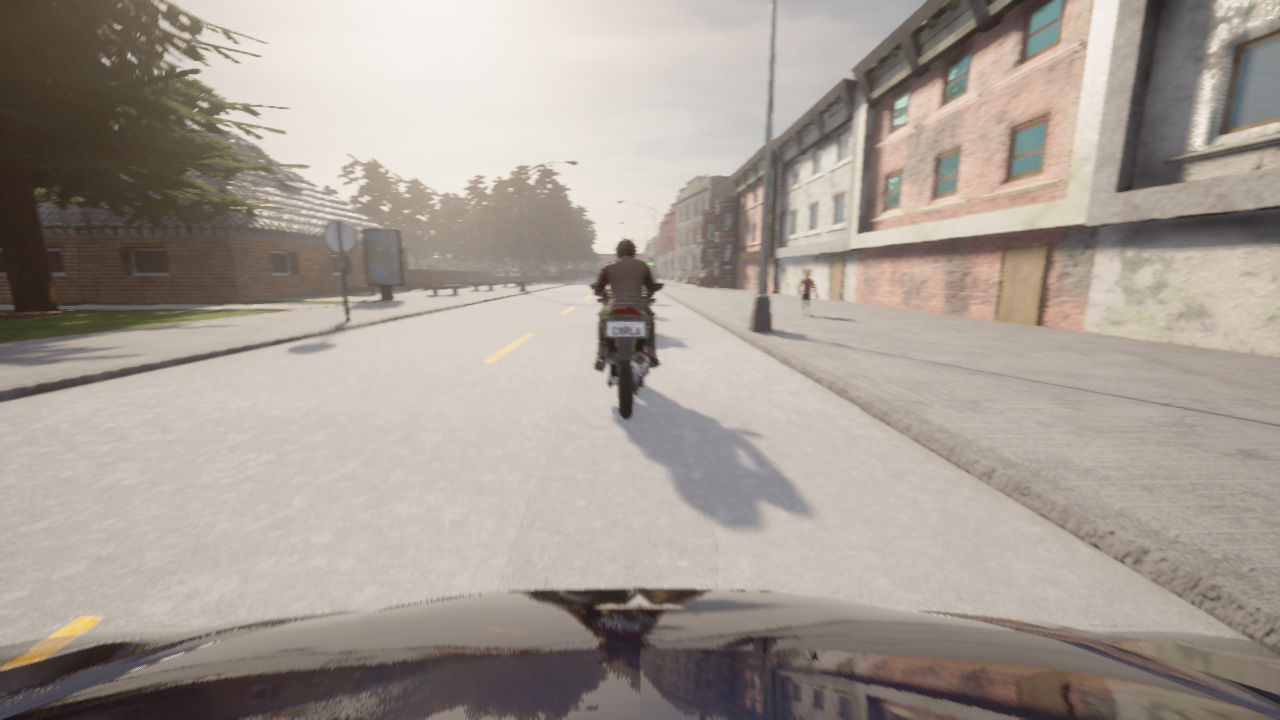cyclist: (0, 588, 1279, 719), (589, 283, 663, 418)
pedestrian: (798, 270, 817, 316)
